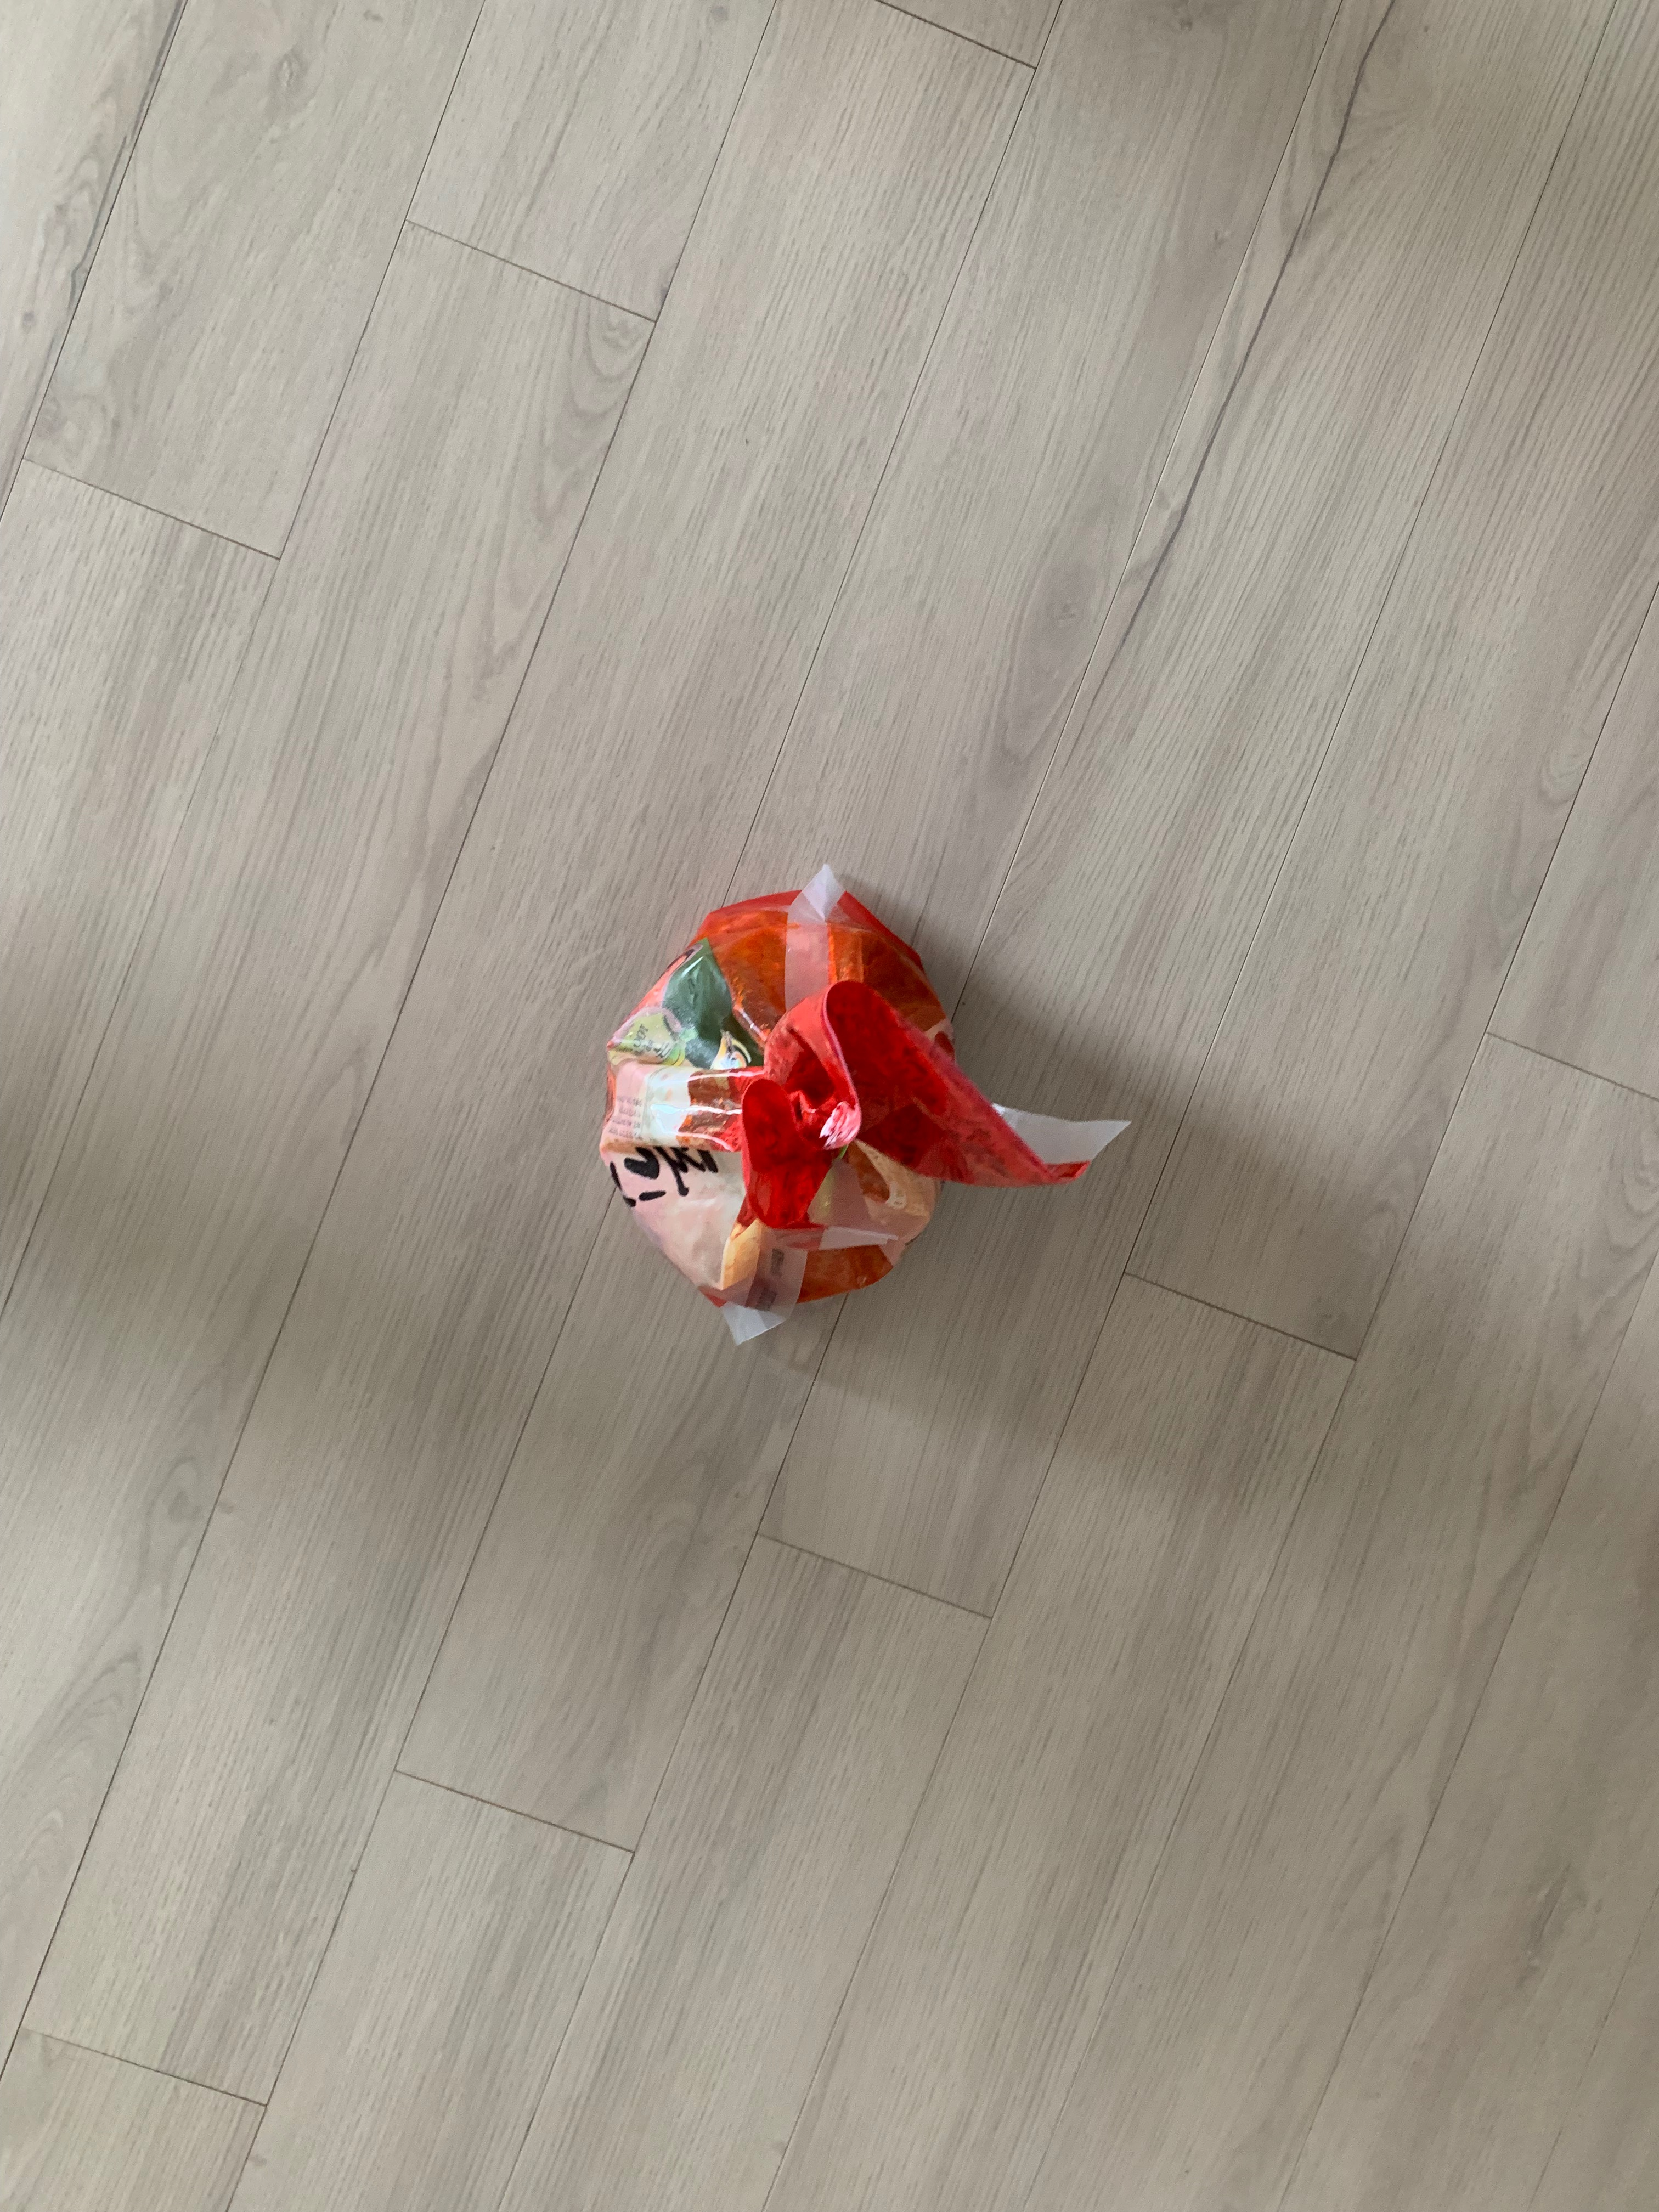kimchi: (591, 883, 1016, 1312)
